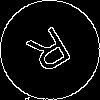R: (25, 25, 79, 83)
